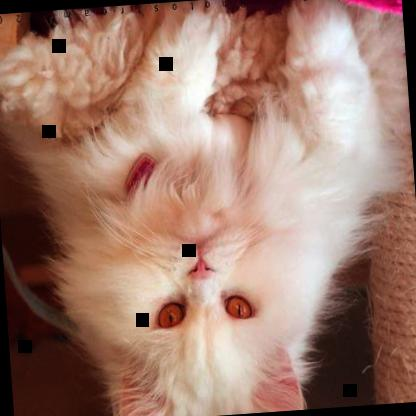cat: (20, 0, 408, 415)
